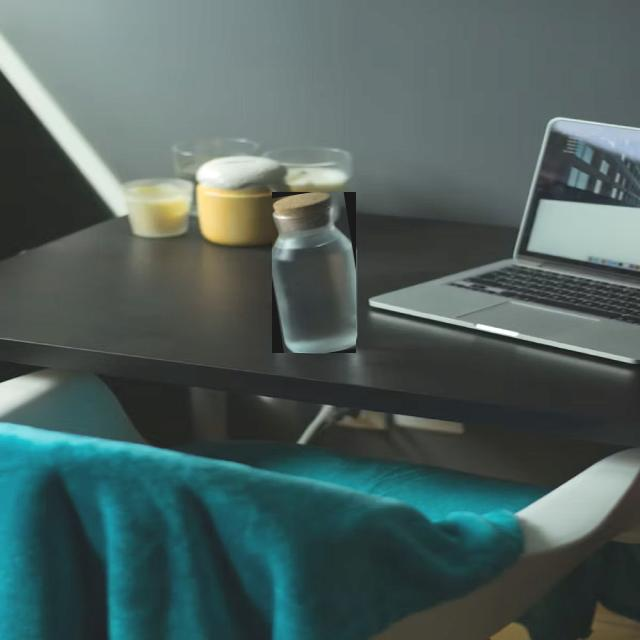Bottle: (272, 192, 355, 353)
